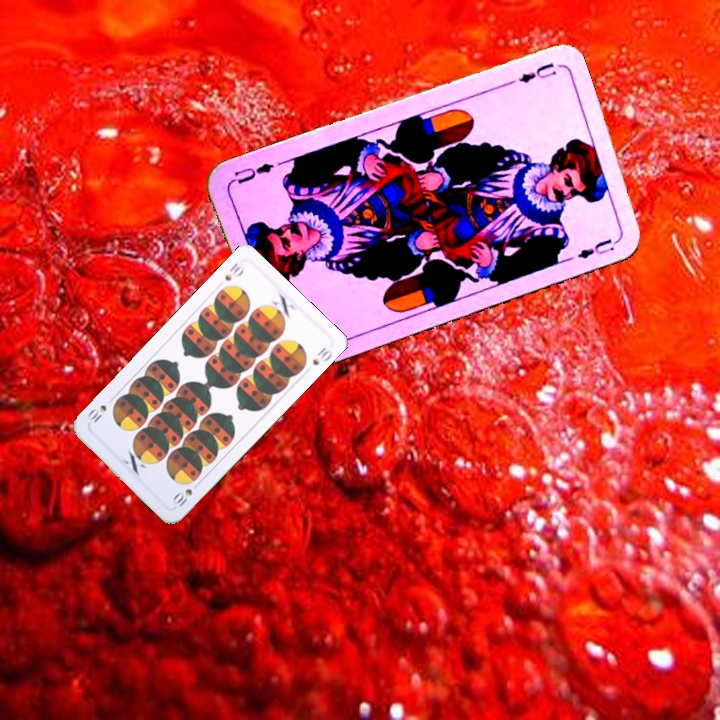EU: (514, 59, 559, 86)
S10: (168, 478, 203, 511), (221, 259, 247, 284)
